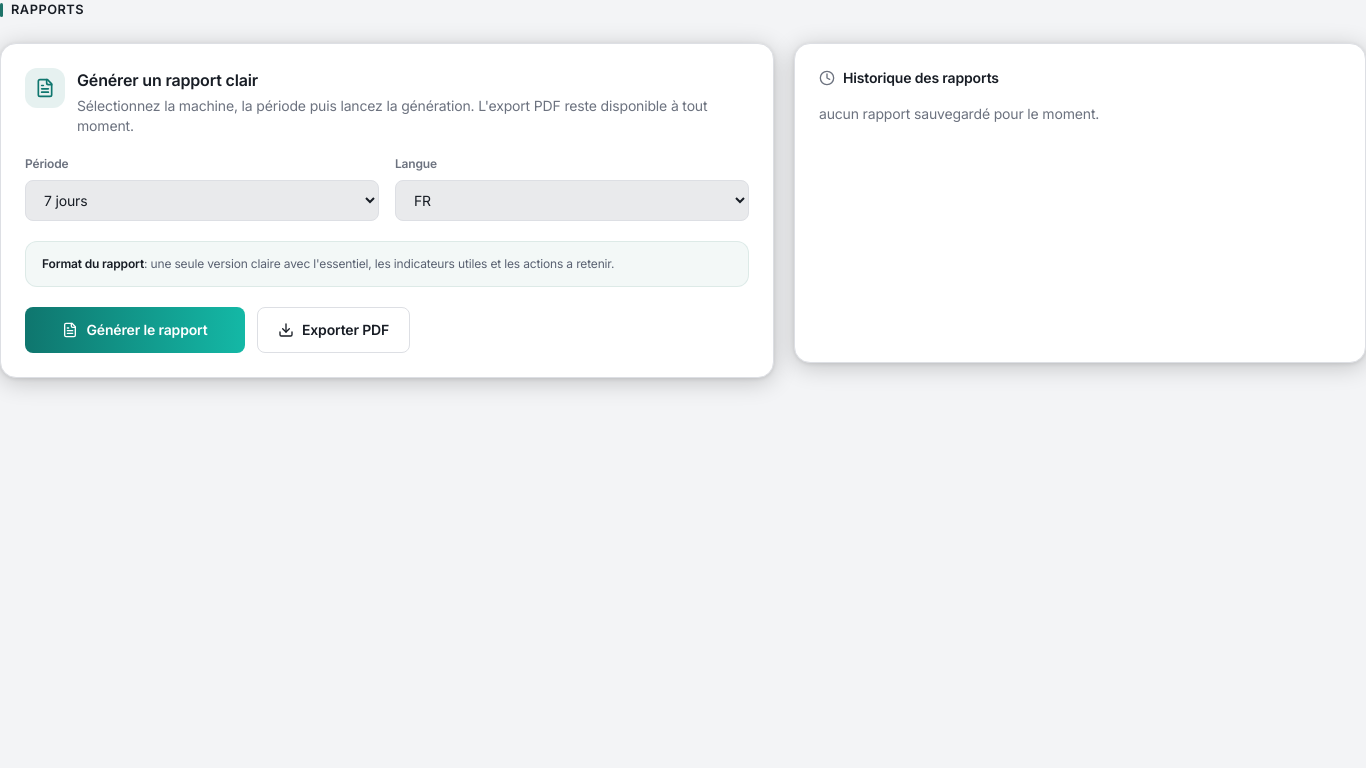
Scenario: RapportIAPage › shows the available report summary when backend generation returns no content
The width and height of the screenshot is (1366, 768).
Click the button "Générer le rapport".
click(135, 330)  # box top-left (25, 307), bottom-right (245, 353)
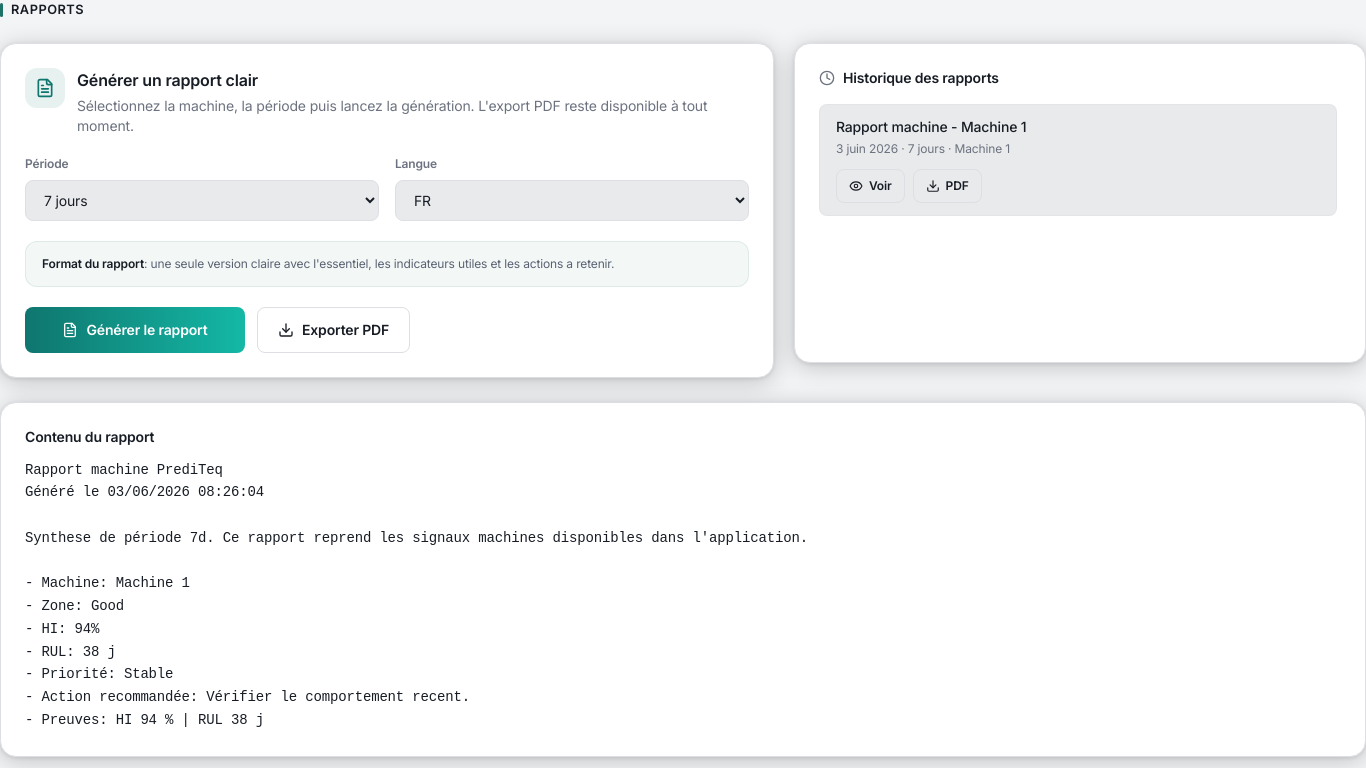
Now the text "Contenu du rapport" is shown, box top-left (25, 428), bottom-right (154, 445)
Now the text "Rapport machine PrediTeq" is shown, box top-left (25, 462), bottom-right (808, 728)
